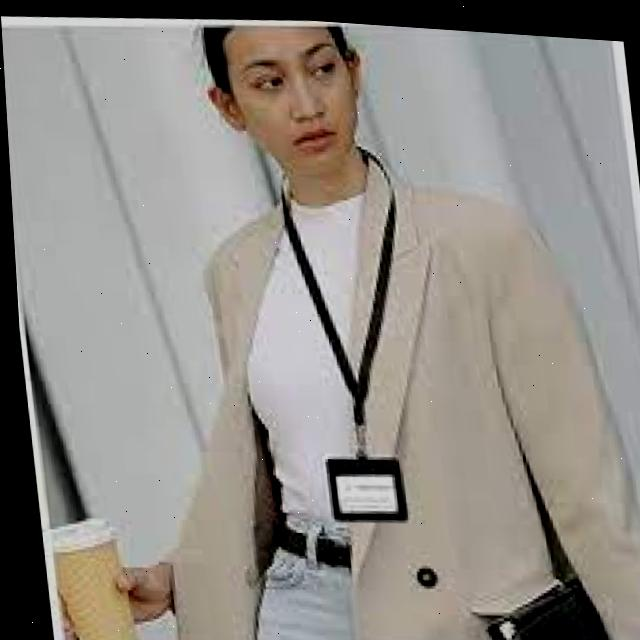id_card: (268, 166, 416, 525)
